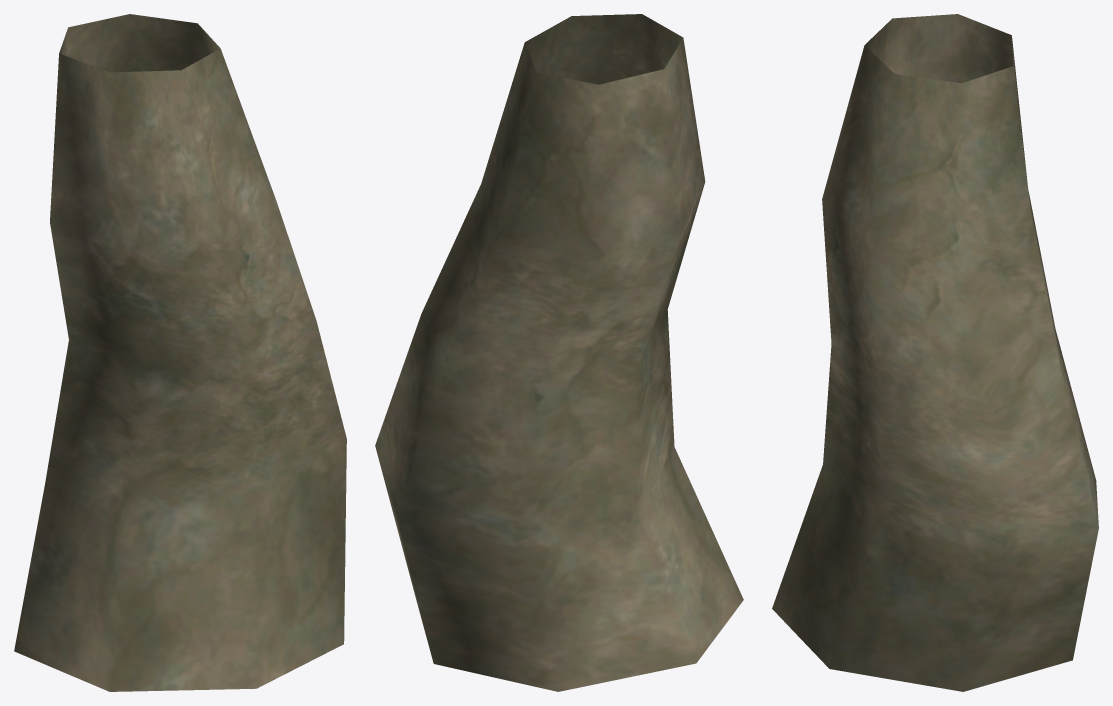
The model's file is EKH_GROTTO_PS_GR_OBJECT98.fbx.
3 renders of one model, left to right at view 1: azimuth 30°, elevation 25°; view 2: azimuth 150°, elevation 25°; view 3: azimuth 270°, elevation 25°, orthographic. The views are drawn at different scales.
Parts seen in each view (by area): view 1: EKH_GROTTO_PS_GR_OBJECT98; view 2: EKH_GROTTO_PS_GR_OBJECT98; view 3: EKH_GROTTO_PS_GR_OBJECT98.
Part boxes in pixels (x1,y1,x2,y2): EKH_GROTTO_PS_GR_OBJECT98: [14, 14, 346, 691]; EKH_GROTTO_PS_GR_OBJECT98: [375, 14, 743, 691]; EKH_GROTTO_PS_GR_OBJECT98: [772, 14, 1098, 691].
Size of the model in its own units: 26126 by 48903 by 25447.
1 material, 1 textured.
